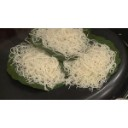idiyappam: (67, 42, 112, 87), (15, 46, 60, 89), (31, 30, 89, 54)
